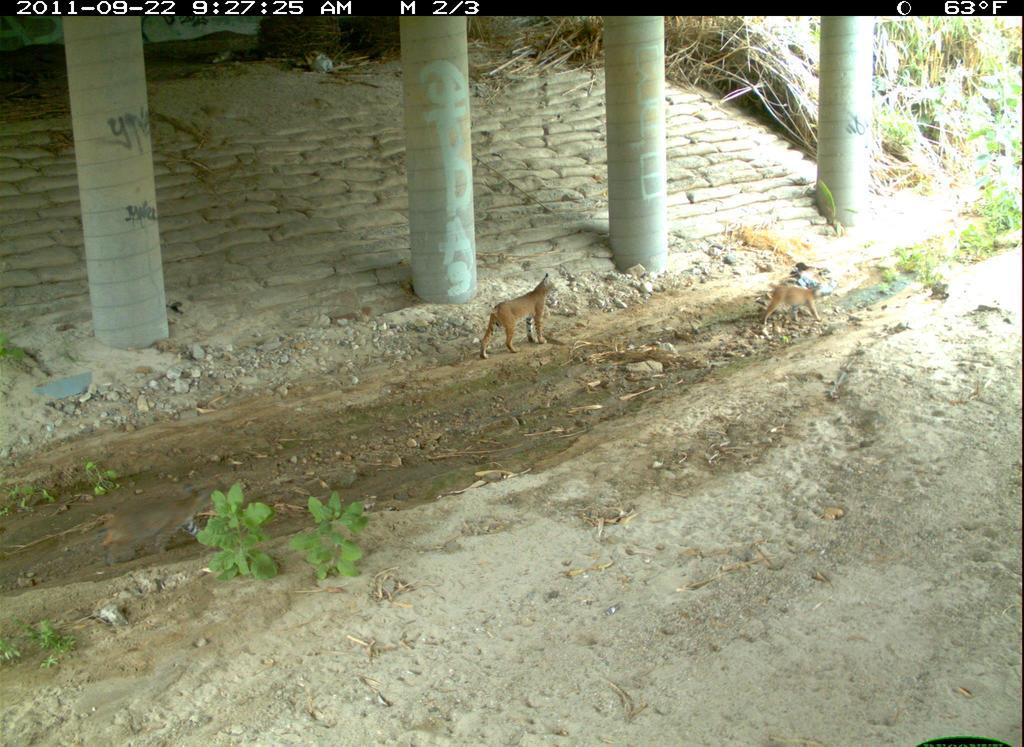bobcat: (947, 536, 1024, 725)
